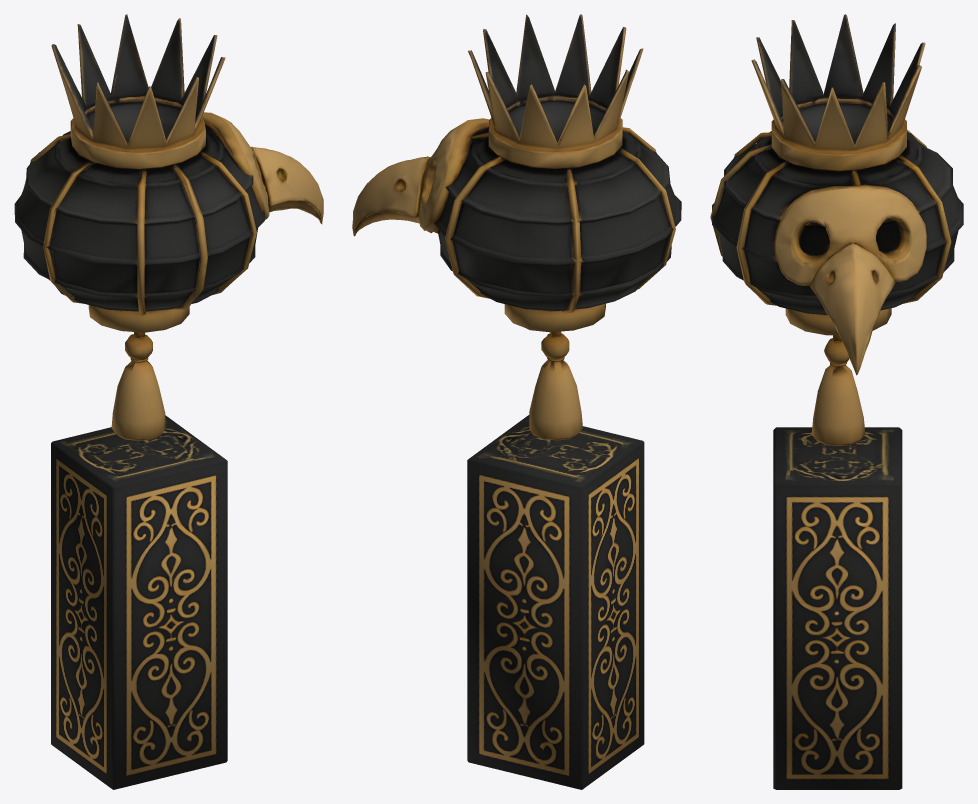
File: hexidol_shadowplay_tripo.glb
3 views of the same model, side by side, from view 1: azimuth 30°, elevation 25°; view 2: azimuth 150°, elevation 25°; view 3: azimuth 270°, elevation 25° (orthographic).
Visible parts, largest first — view 1: tripo_node_8c0e7e07-7d50-4bd7-9081-815832890e1c; view 2: tripo_node_8c0e7e07-7d50-4bd7-9081-815832890e1c; view 3: tripo_node_8c0e7e07-7d50-4bd7-9081-815832890e1c.
Part boxes in pixels (left/top/right/bottom): tripo_node_8c0e7e07-7d50-4bd7-9081-815832890e1c: left=14, top=14, right=323, bottom=789; tripo_node_8c0e7e07-7d50-4bd7-9081-815832890e1c: left=352, top=14, right=681, bottom=789; tripo_node_8c0e7e07-7d50-4bd7-9081-815832890e1c: left=710, top=14, right=963, bottom=789.
Bounding box in the file's own units: 0.4512 × 0.998 × 0.3223.
1 material, 1 textured.
